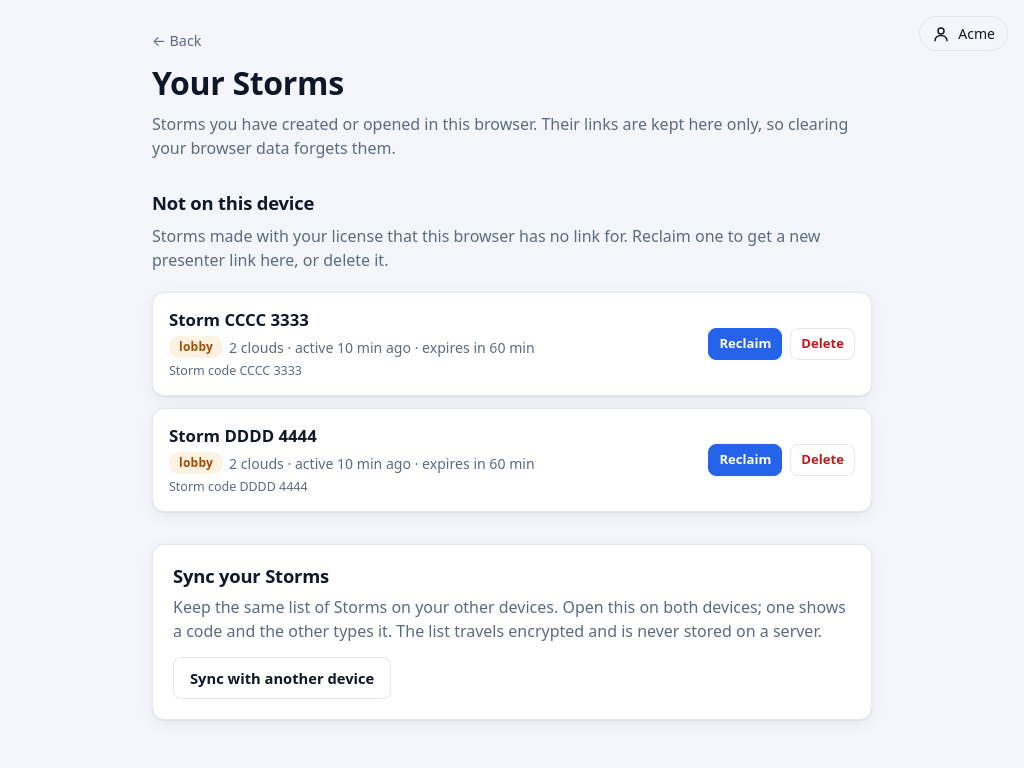
Scenario: StormsView, Storms made under the license that this browser does not know › deletes after asking and drops the row, keeping the others
The width and height of the screenshot is (1024, 768).
Click the button with class "delete-elsewhere" in the row of "Storm CCCC 3333". click: [823, 344]
box: [790,328,855,360]
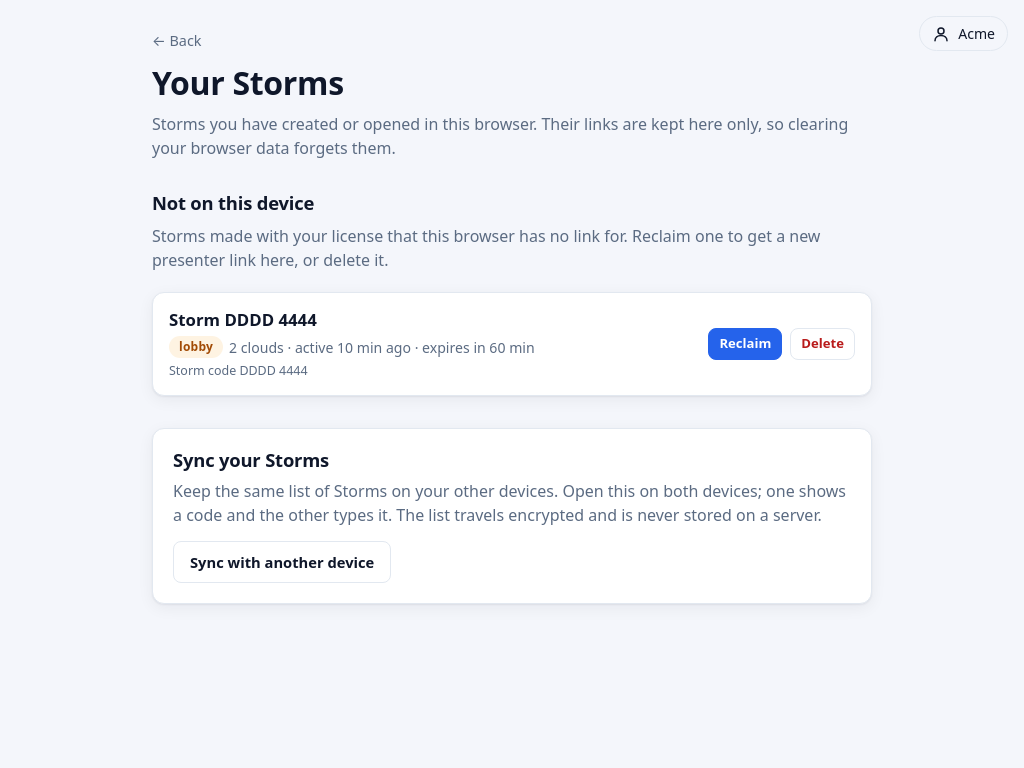
expect the number of list items with class "storm-row" is 1: met, box [152,292,872,396]
